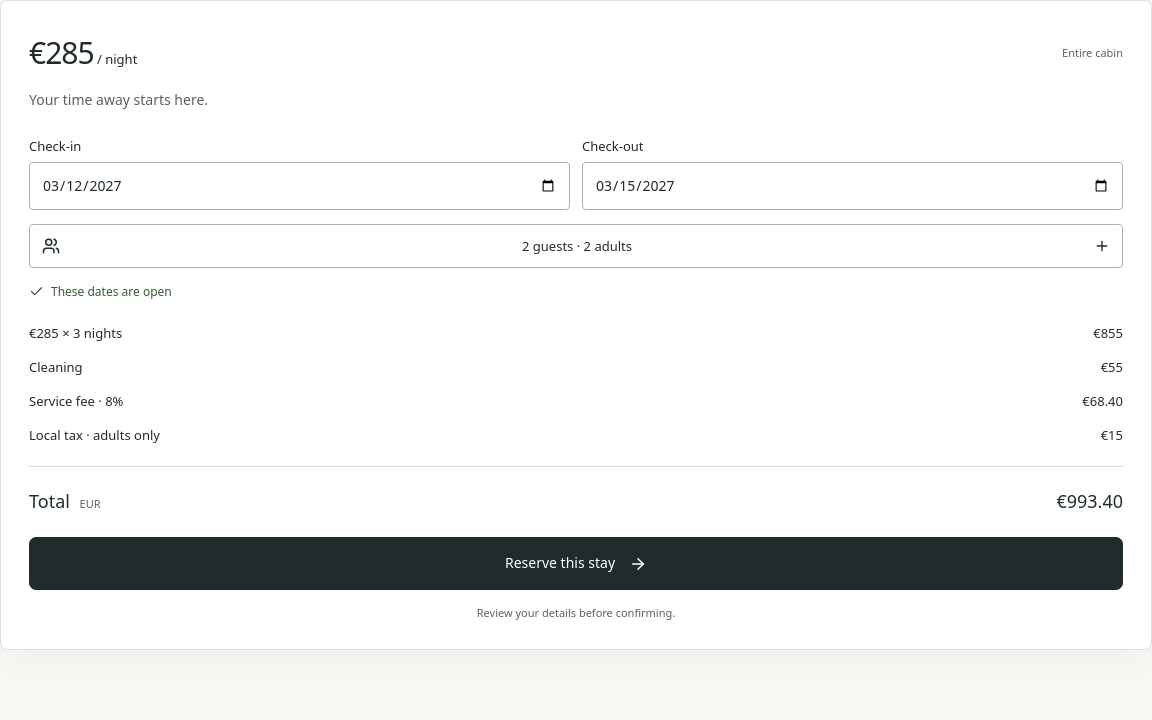
Test case: booking interactions › updates totals when a departure date changes
Expected: the text "€993.40" is shown once, [1056,487,1123,515]
Type "2027-03-16" into the date field labelled "Check-out". click: (852, 186)
box: [582,162,1123,210]
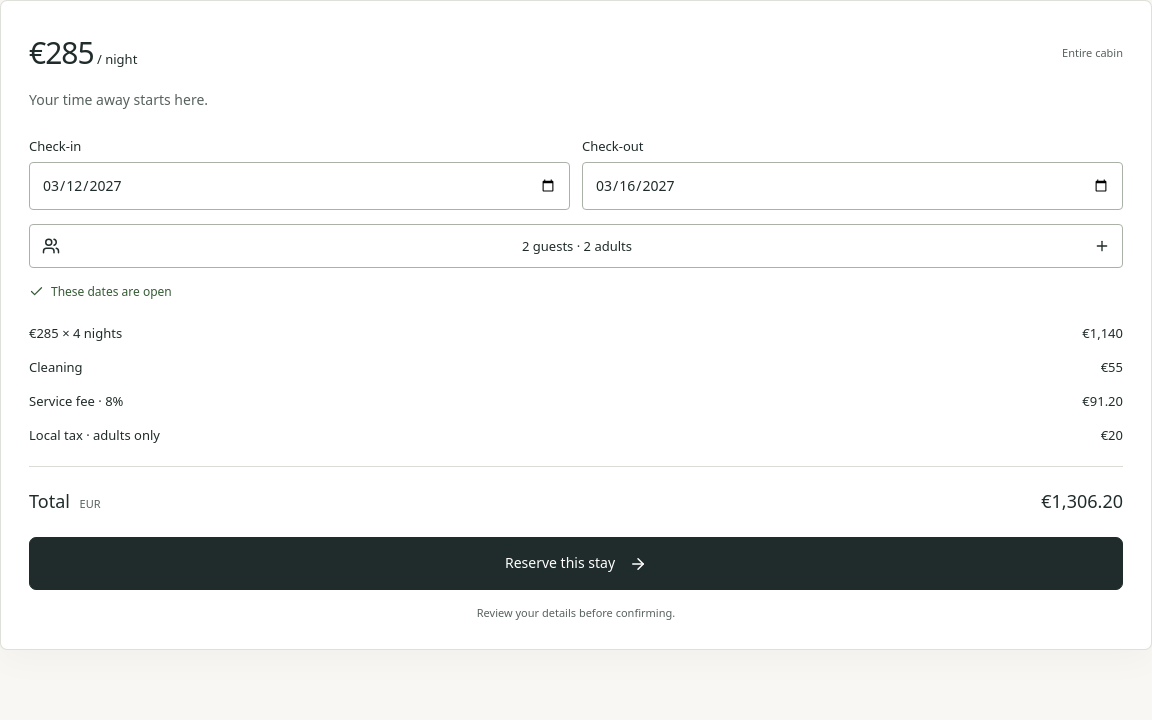
Expected: the text "€1,306.20" is shown, [1041,487,1123,515]
